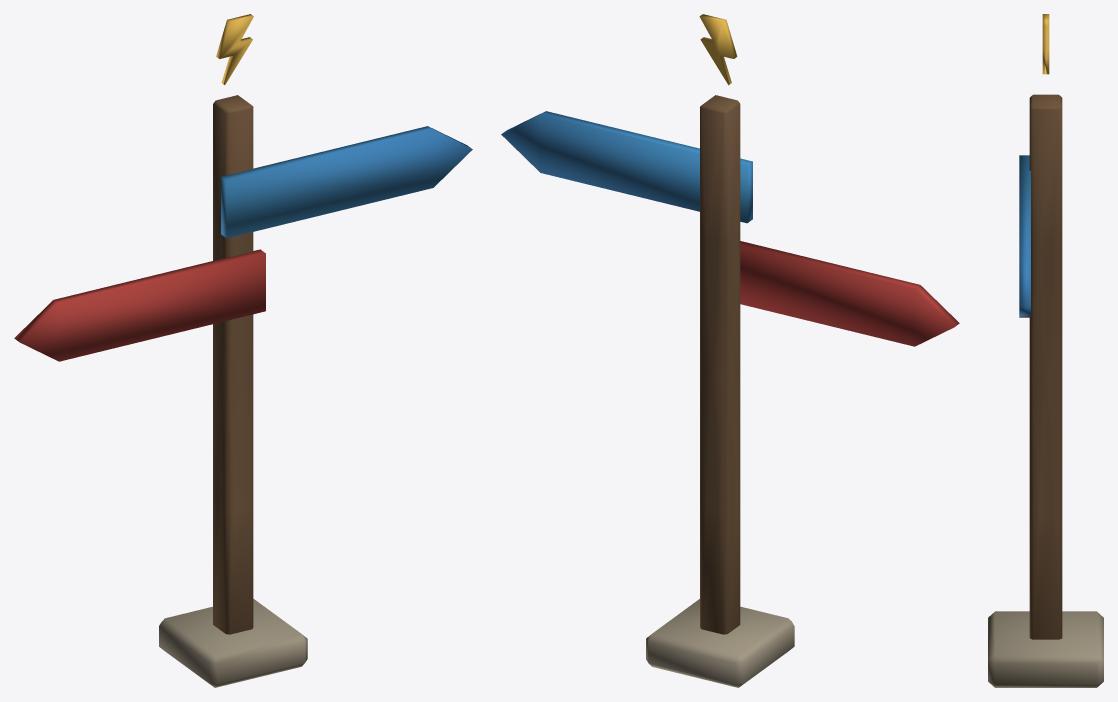
The model's file is infra_signpost.glb.
3 renders of one model, left to right at view 1: azimuth 30°, elevation 25°; view 2: azimuth 150°, elevation 25°; view 3: azimuth 270°, elevation 25°, orthographic.
Visible parts, largest first — view 1: wood_dark, azure_wood, red_wood, stone, gold; view 2: wood_dark, red_wood, azure_wood, stone, gold; view 3: wood_dark, stone, azure_wood, gold.
Part boxes in pixels (x1,y1,x2,y2): wood_dark: (213,95,253,634); azure_wood: (221,126,472,238); red_wood: (14,249,265,361); stone: (159,599,307,687); gold: (216,14,253,84); wood_dark: (700,95,740,634); red_wood: (740,241,959,346); azure_wood: (501,111,752,223); stone: (646,599,794,687); gold: (699,14,737,85); wood_dark: (1029,94,1062,639); stone: (988,611,1103,687); azure_wood: (1019,155,1030,316); gold: (1042,14,1049,74).
Size of the model in its own units: 2.3 by 3.1 by 0.5.
